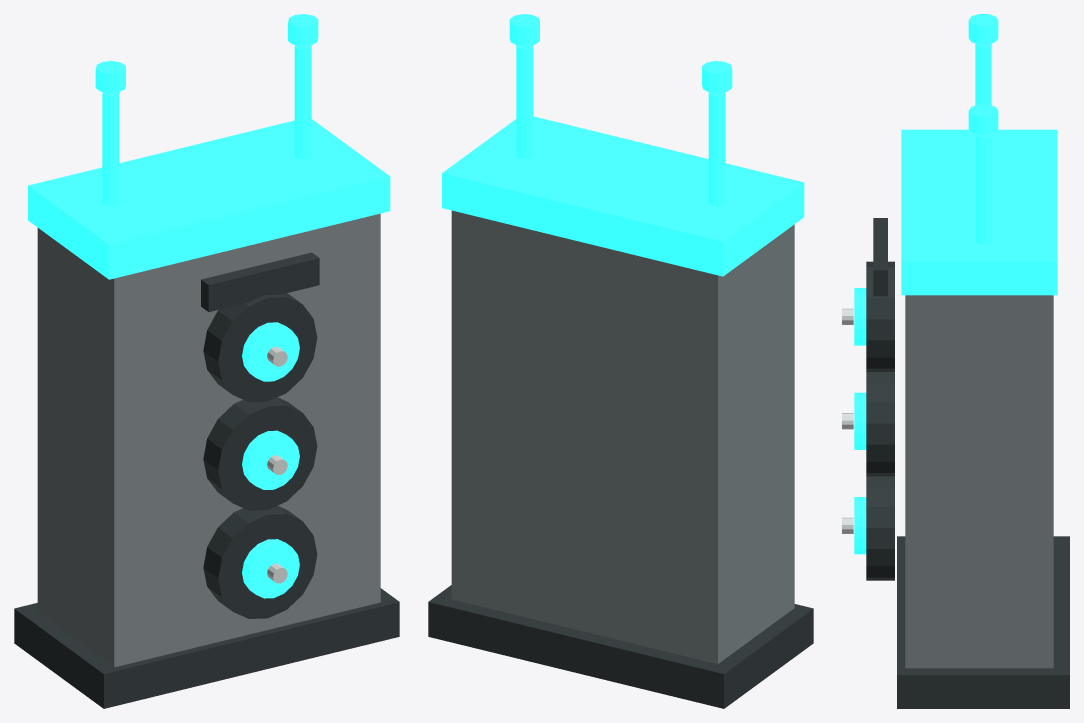
File: sensor_rack.glb
The picture shows the model from 3 angles, left to right: view 1: azimuth 30°, elevation 25°; view 2: azimuth 150°, elevation 25°; view 3: azimuth 270°, elevation 25°; orthographic projection. The views are drawn at different scales.
Parts seen in each view (by area): view 1: sensor_rack_housing, sensor_rack_top_bar, sensor_rack_mount_rail, sensor_rack_dish_0_outer, sensor_rack_dish_1_outer, sensor_rack_dish_2_outer, sensor_rack_center_label, sensor_rack_dish_0_inner, sensor_rack_dish_2_inner, sensor_rack_dish_1_inner, sensor_rack_left_antenna, sensor_rack_right_antenna (+2 smaller); view 2: sensor_rack_housing, sensor_rack_top_bar, sensor_rack_mount_rail, sensor_rack_left_antenna, sensor_rack_right_antenna, sensor_rack_right_tip, sensor_rack_left_tip; view 3: sensor_rack_housing, sensor_rack_top_bar, sensor_rack_mount_rail, sensor_rack_dish_0_outer, sensor_rack_dish_1_outer, sensor_rack_dish_2_outer, sensor_rack_right_antenna, sensor_rack_center_label, sensor_rack_left_antenna, sensor_rack_right_tip, sensor_rack_left_tip, sensor_rack_dish_2_inner (+2 smaller).
Part boxes in pixels (x1=…): sensor_rack_housing: x1=37, y1=213, x2=380, y2=667; sensor_rack_top_bar: x1=28, y1=119, x2=390, y2=279; sensor_rack_mount_rail: x1=14, y1=588, x2=399, y2=708; sensor_rack_dish_0_outer: x1=203, y1=505, x2=317, y2=618; sensor_rack_dish_1_outer: x1=203, y1=397, x2=317, y2=510; sensor_rack_dish_2_outer: x1=203, y1=293, x2=317, y2=402; sensor_rack_center_label: x1=201, y1=252, x2=319, y2=311; sensor_rack_dish_0_inner: x1=242, y1=539, x2=299, y2=598; sensor_rack_dish_2_inner: x1=242, y1=322, x2=299, y2=381; sensor_rack_dish_1_inner: x1=242, y1=430, x2=299, y2=489; sensor_rack_left_antenna: x1=102, y1=92, x2=119, y2=206; sensor_rack_right_antenna: x1=294, y1=45, x2=311, y2=159; sensor_rack_housing: x1=451, y1=210, x2=794, y2=664; sensor_rack_top_bar: x1=442, y1=116, x2=804, y2=276; sensor_rack_mount_rail: x1=428, y1=585, x2=813, y2=708; sensor_rack_left_antenna: x1=708, y1=92, x2=725, y2=206; sensor_rack_right_antenna: x1=516, y1=45, x2=533, y2=159; sensor_rack_right_tip: x1=509, y1=14, x2=539, y2=46; sensor_rack_left_tip: x1=702, y1=61, x2=732, y2=93; sensor_rack_housing: x1=905, y1=295, x2=1053, y2=668; sensor_rack_top_bar: x1=901, y1=129, x2=1057, y2=295; sensor_rack_mount_rail: x1=897, y1=536, x2=1069, y2=708; sensor_rack_dish_0_outer: x1=866, y1=476, x2=894, y2=580; sensor_rack_dish_1_outer: x1=866, y1=372, x2=894, y2=476; sensor_rack_dish_2_outer: x1=866, y1=261, x2=894, y2=371; sensor_rack_right_antenna: x1=975, y1=134, x2=991, y2=244; sensor_rack_center_label: x1=873, y1=218, x2=887, y2=296; sensor_rack_left_antenna: x1=975, y1=43, x2=991, y2=105; sensor_rack_right_tip: x1=968, y1=104, x2=998, y2=134; sensor_rack_left_tip: x1=968, y1=14, x2=998, y2=44; sensor_rack_dish_2_inner: x1=854, y1=288, x2=866, y2=345.
Size of the model in its own units: 0.4 by 0.77 by 0.277.
